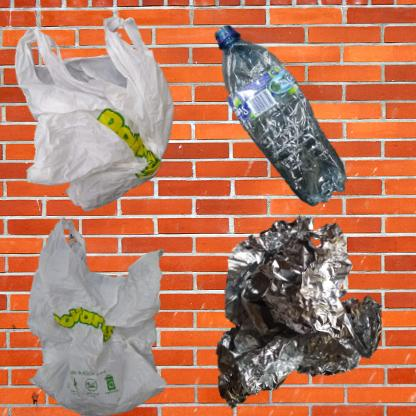aluminio: (213, 213, 385, 409)
bolsa: (10, 213, 201, 416), (10, 10, 188, 223)
botella: (213, 10, 360, 233)
